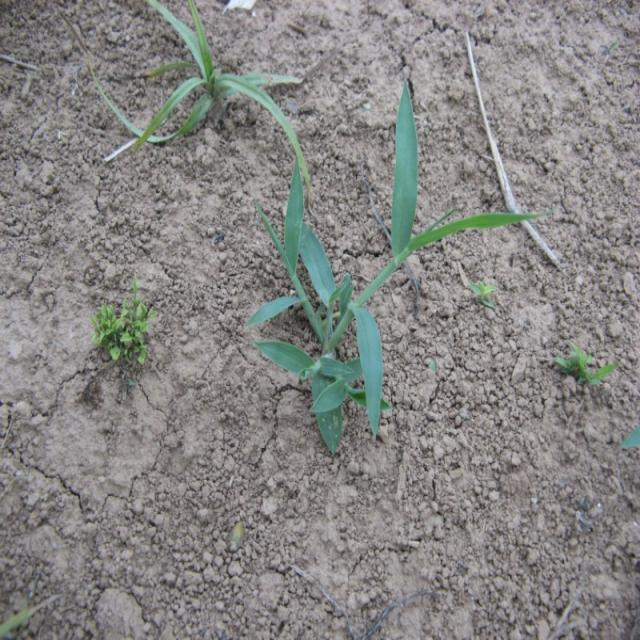bg: (242, 75, 530, 463)
